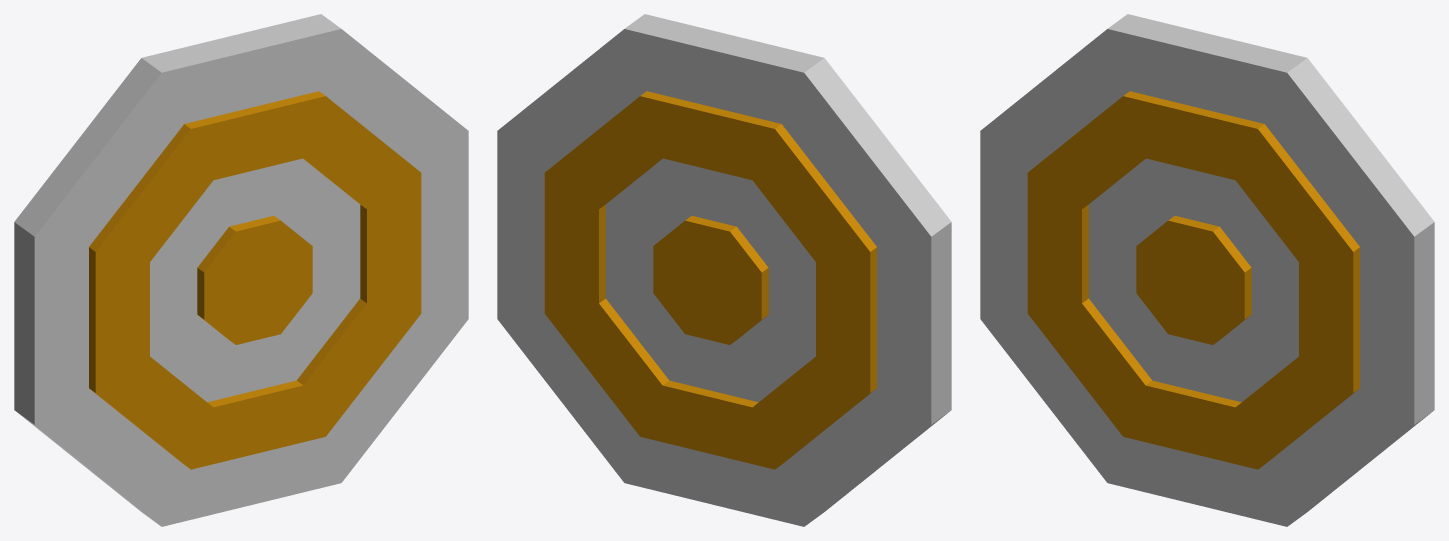
File: Yellow_Target.obj
The picture shows the model from 3 angles, left to right: view 1: azimuth 30°, elevation 25°; view 2: azimuth 150°, elevation 25°; view 3: azimuth 330°, elevation 25°; orthographic projection.
Parts seen in each view (by area): view 1: Octagon_Base_Octabase, Octagon_Big_Octabig, Octagon_Bullseye_Octabullseye; view 2: Octagon_Base_Octabase, Octagon_Big_Octabig, Octagon_Bullseye_Octabullseye; view 3: Octagon_Base_Octabase, Octagon_Big_Octabig, Octagon_Bullseye_Octabullseye.
Boxes of the visible parts, x1=… form: Octagon_Base_Octabase: x1=14, y1=14, x2=468, y2=526; Octagon_Big_Octabig: x1=89, y1=91, x2=421, y2=469; Octagon_Bullseye_Octabullseye: x1=197, y1=216, x2=312, y2=344; Octagon_Base_Octabase: x1=497, y1=14, x2=951, y2=526; Octagon_Big_Octabig: x1=544, y1=91, x2=876, y2=469; Octagon_Bullseye_Octabullseye: x1=653, y1=216, x2=768, y2=344; Octagon_Base_Octabase: x1=980, y1=14, x2=1434, y2=526; Octagon_Big_Octabig: x1=1027, y1=91, x2=1359, y2=469; Octagon_Bullseye_Octabullseye: x1=1136, y1=216, x2=1251, y2=344.
Size of the model in its own units: 3.7 by 3.7 by 0.5.
